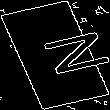N_W: (13, 28, 97, 82)
